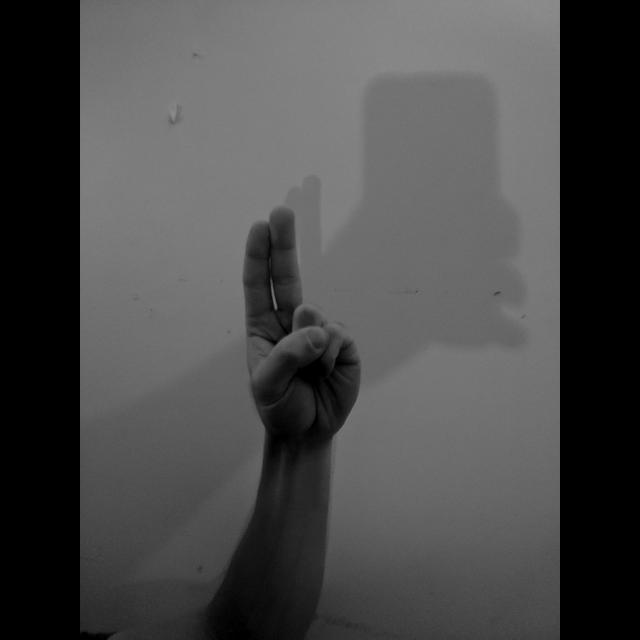U: (236, 200, 364, 446)
